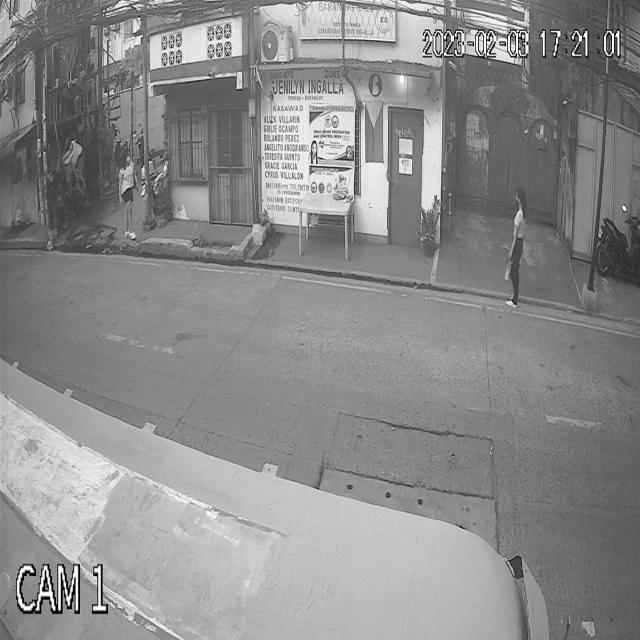garbage_dumping: (504, 252, 513, 284)
